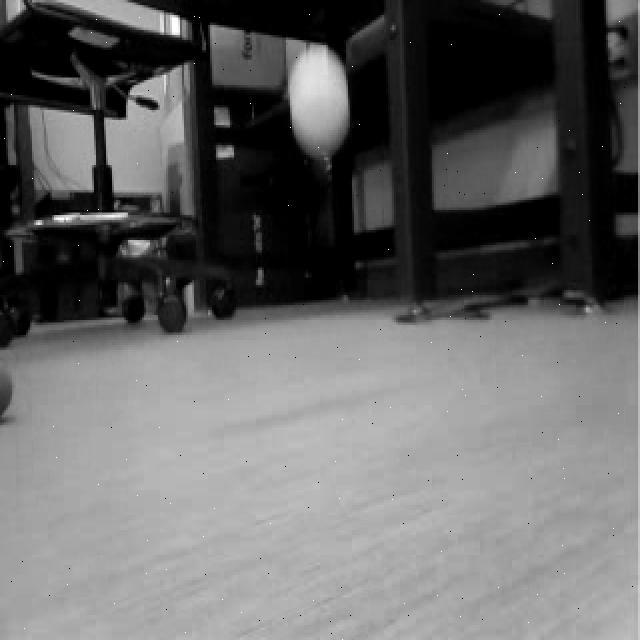ping-pong-ball: (284, 50, 352, 154)
